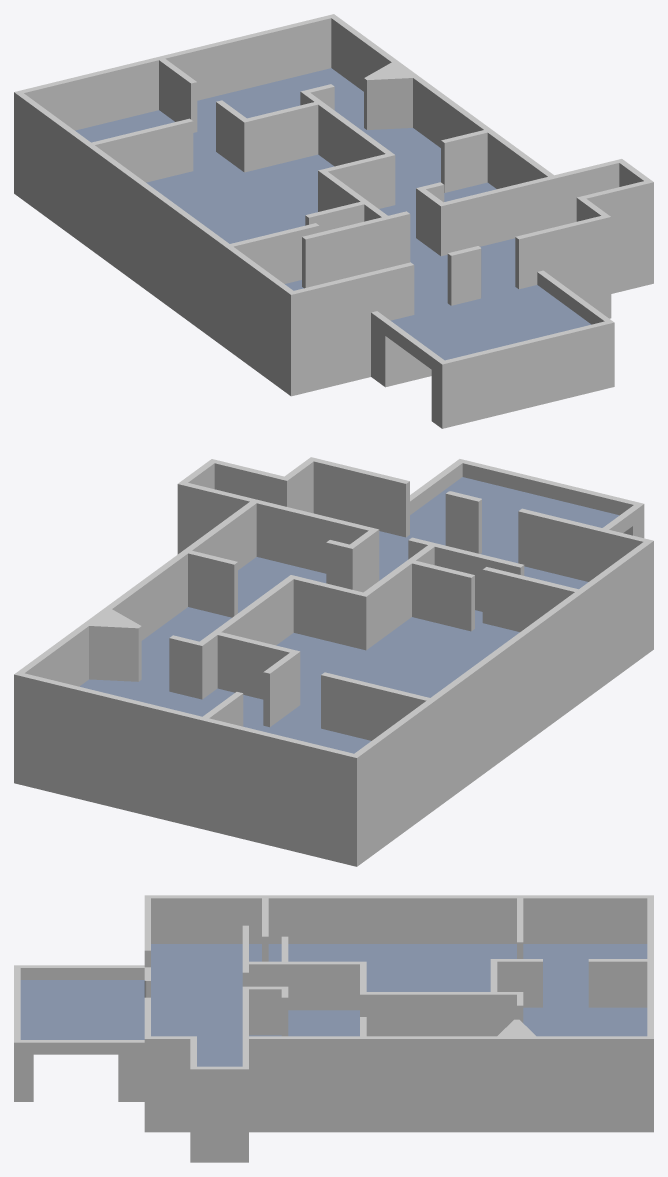
The model's file is floor.gltf.
3 views of the same model, one above another, from view 1: azimuth 30°, elevation 25°; view 2: azimuth 150°, elevation 25°; view 3: azimuth 270°, elevation 25° (orthographic). The views are drawn at different scales.
Visible parts, largest first — view 1: floor; view 2: floor; view 3: floor.
Boxes of the visible parts, x1,y1,x2,y2 form: floor: (14,14,653,428); floor: (14,457,653,866); floor: (14,895,653,1162).
Size of the model in its own units: 31.5 by 7.88 by 49.
